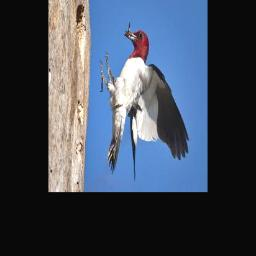Woodpecker: (100, 25, 190, 180)
